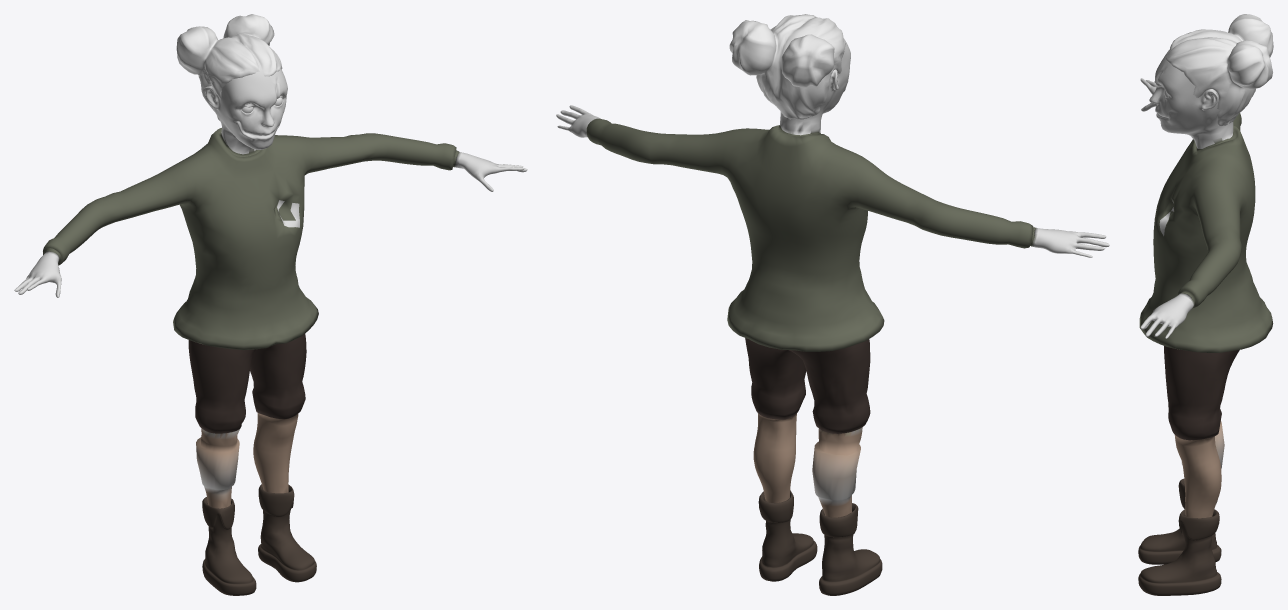
File: Josephine_MESH 1.fbx
3 renders of one model, left to right at view 1: azimuth 30°, elevation 25°; view 2: azimuth 150°, elevation 25°; view 3: azimuth 270°, elevation 25°, orthographic. The views are drawn at different scales.
Parts seen in each view (by area): view 1: BODY_LP, Hair_LP; view 2: BODY_LP, Hair_LP; view 3: BODY_LP, Hair_LP.
Part boxes in pixels (bbox=[...]): BODY_LP: bbox=[14, 45, 527, 595]; Hair_LP: bbox=[176, 14, 282, 121]; BODY_LP: bbox=[556, 18, 1109, 595]; Hair_LP: bbox=[729, 14, 845, 119]; BODY_LP: bbox=[1138, 38, 1273, 595]; Hair_LP: bbox=[1166, 14, 1273, 126].
Bounding box in the file's own units: 146 × 145 × 32.67.
